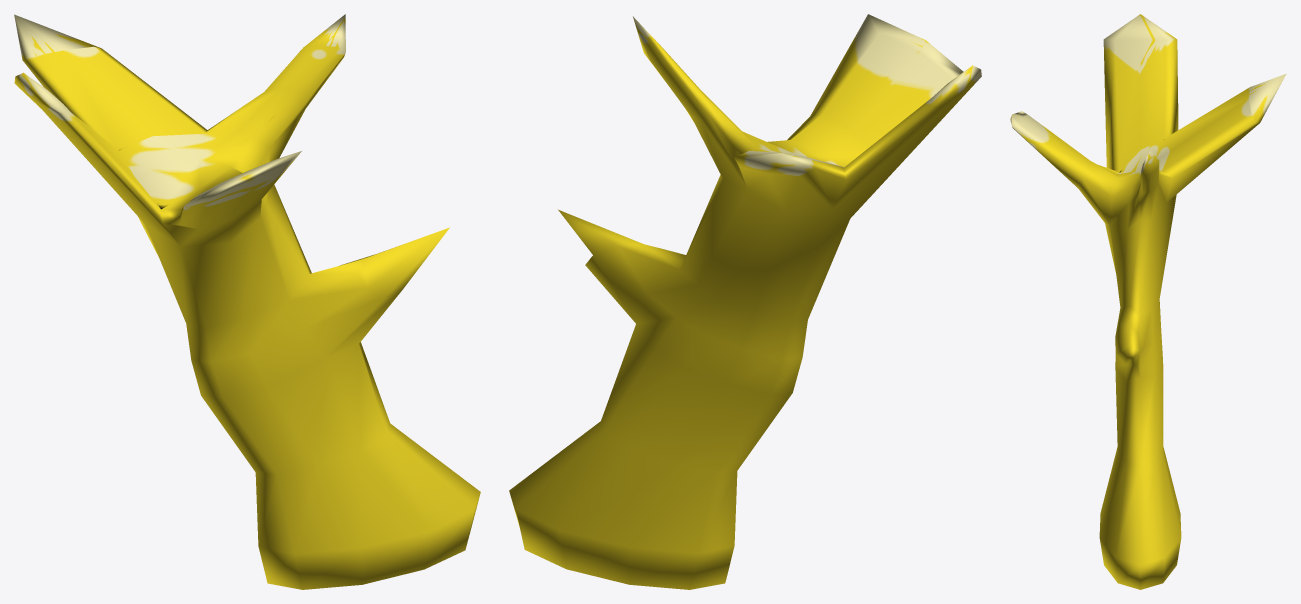
The model's file is Coral02_LP.fbx.
The picture shows the model from 3 angles, left to right: view 1: azimuth 30°, elevation 25°; view 2: azimuth 150°, elevation 25°; view 3: azimuth 270°, elevation 25°; orthographic projection. The views are drawn at different scales.
Visible parts, largest first — view 1: Coral02; view 2: Coral02; view 3: Coral02.
Part boxes in pixels (x1,y1,x2,y2): Coral02: (14, 14, 480, 589); Coral02: (509, 14, 981, 589); Coral02: (1010, 14, 1286, 589).
Bounding box in the file's own units: 2.38 × 2.9 × 1.71.
